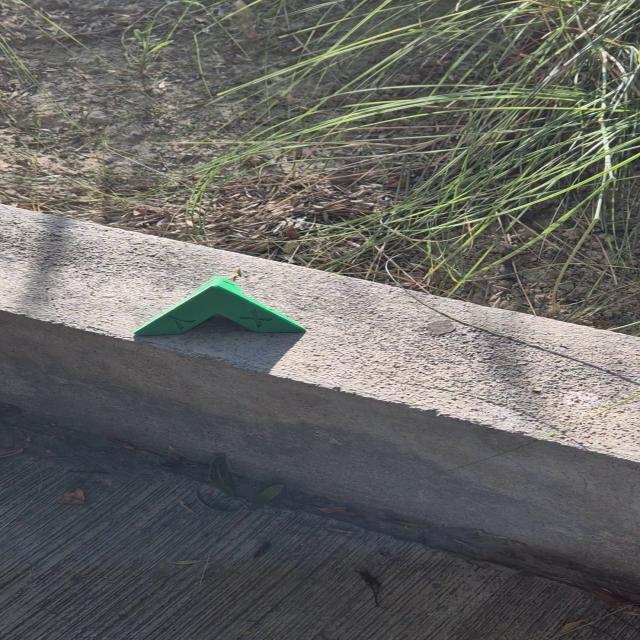objects: (132, 274, 308, 337)
